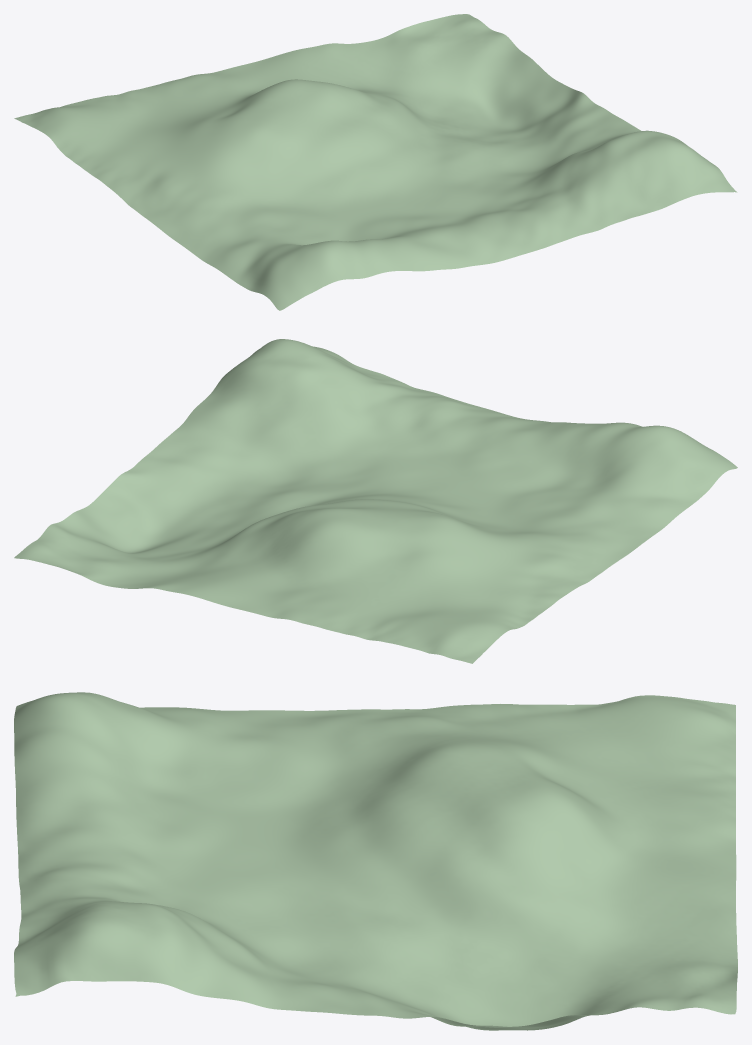
File: test_terrain.fbx
3 renders of one model, top to bottom at view 1: azimuth 30°, elevation 25°; view 2: azimuth 150°, elevation 25°; view 3: azimuth 270°, elevation 25°, orthographic. The views are drawn at different scales.
Visible parts, largest first — view 1: test_terrain; view 2: test_terrain; view 3: test_terrain.
Boxes of the visible parts, <box> form: test_terrain: <box>14,14,737,310</box>; test_terrain: <box>14,339,737,663</box>; test_terrain: <box>14,692,737,1030</box>.
Size of the model in its own units: 10062 by 1787 by 10090.
